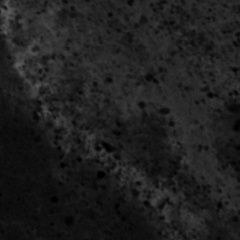Vegetation: (126, 173, 240, 240), (2, 1, 113, 62), (172, 86, 223, 176), (21, 64, 117, 97), (47, 103, 90, 134), (78, 135, 99, 159), (114, 163, 138, 183)
